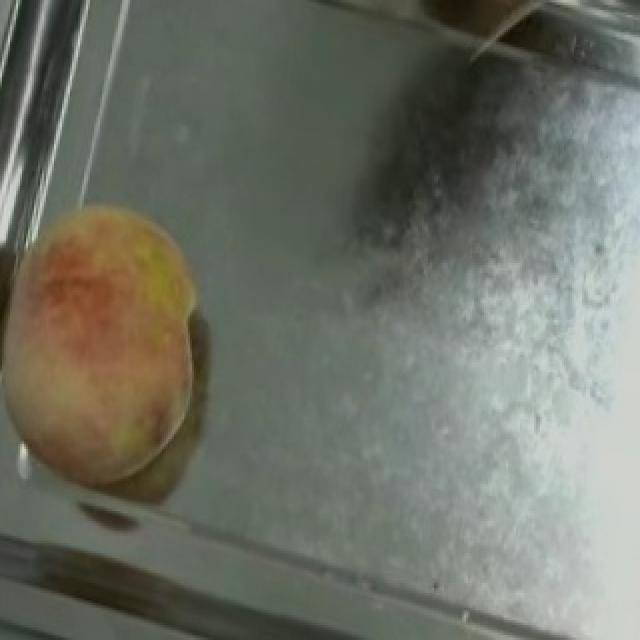Fruit: (0, 171, 240, 516)
